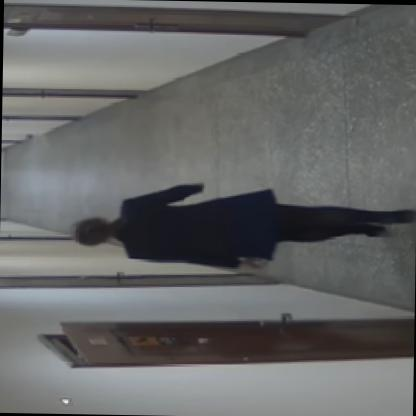Human Body: (72, 180, 414, 274)
